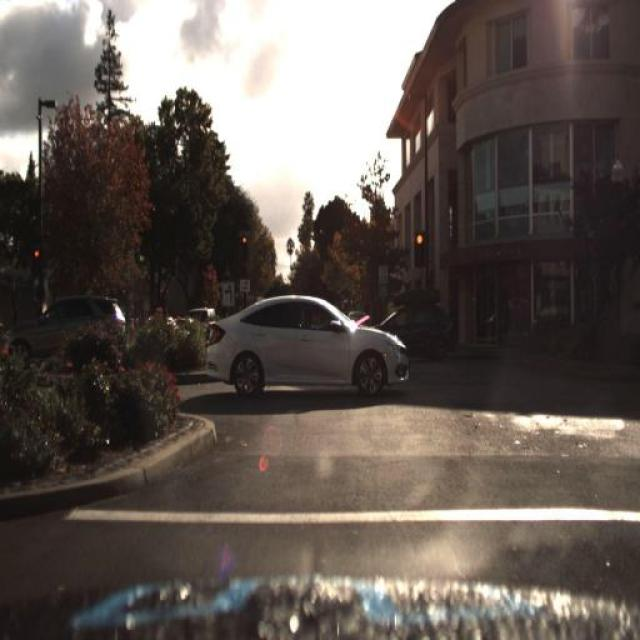car: (204, 299, 412, 397), (6, 291, 129, 371), (370, 287, 452, 365), (25, 293, 126, 343)
trafficLight-Green: (31, 240, 43, 270)
trafficLight-RedLeft: (237, 230, 249, 270), (414, 228, 424, 268), (239, 222, 249, 253)
